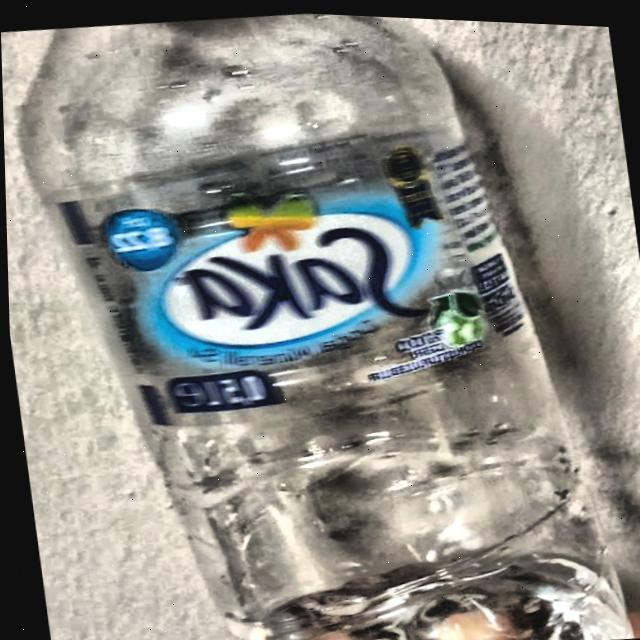plastic: (7, 11, 631, 640)
